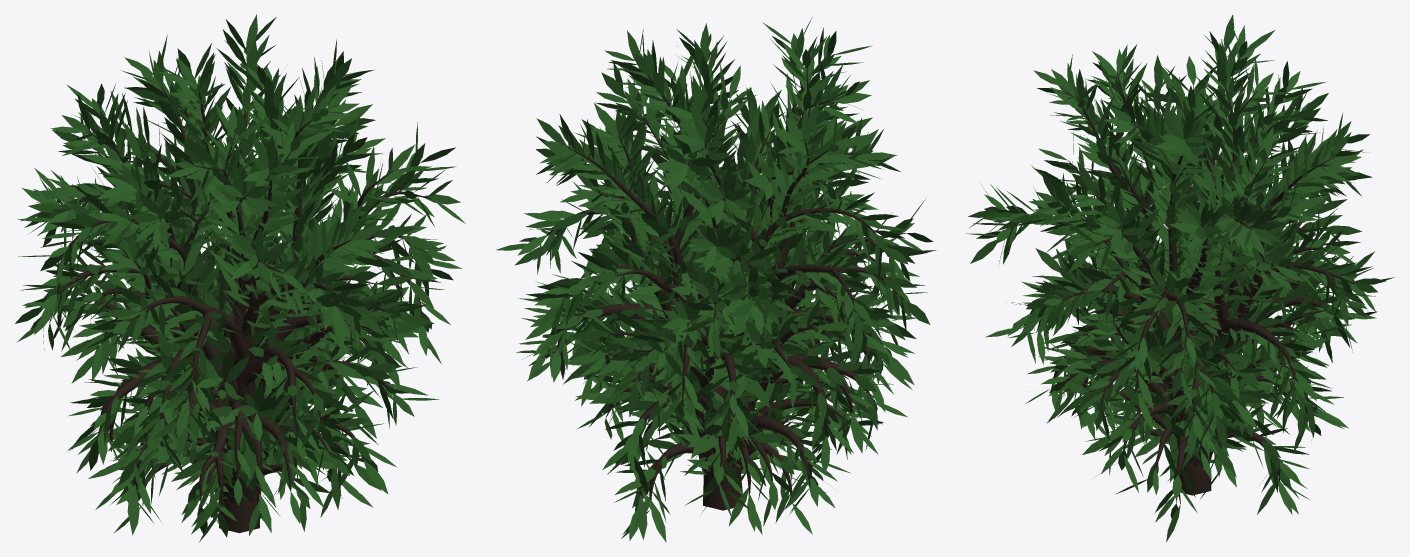
File: BushHQ.fbx
3 views of the same model, side by side, from view 1: azimuth 30°, elevation 25°; view 2: azimuth 150°, elevation 25°; view 3: azimuth 270°, elevation 25° (orthographic). The views are drawn at different scales.
Visible parts, largest first — view 1: leaves, tree; view 2: leaves, tree; view 3: leaves, tree.
Part boxes in pixels (x1,y1,x2,y2): leaves: [15, 14, 465, 541]; tree: [42, 52, 431, 533]; leaves: [496, 17, 936, 542]; tree: [546, 46, 906, 510]; leaves: [966, 14, 1394, 542]; tree: [995, 58, 1353, 503].
Bounding box in the file's own units: 145 × 150 × 135.
